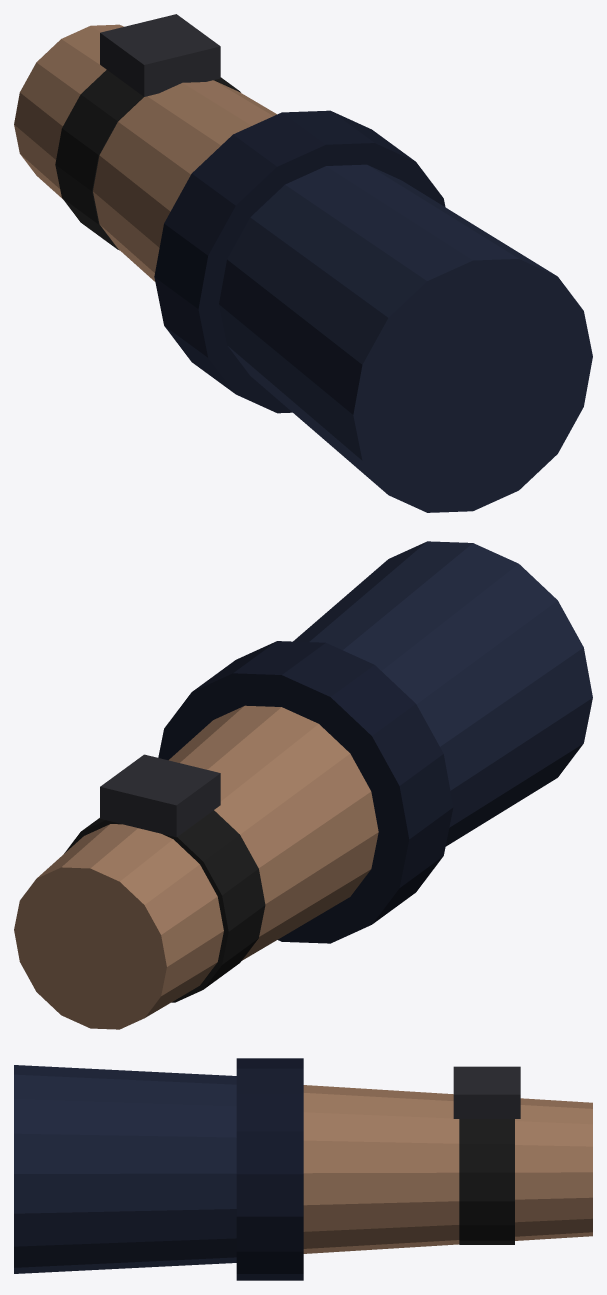
File: forearm_left.glb
3 views of the same model, one above another, from view 1: azimuth 30°, elevation 25°; view 2: azimuth 150°, elevation 25°; view 3: azimuth 270°, elevation 25° (orthographic). The views are drawn at different scales.
Parts seen in each view (by area): view 1: forearm_left; view 2: forearm_left; view 3: forearm_left.
Boxes of the visible parts, left/top/right/bottom form: forearm_left: left=14, top=14, right=592, bottom=512; forearm_left: left=14, top=541, right=592, bottom=1029; forearm_left: left=14, top=1058, right=592, bottom=1280.
Size of the model in its own units: 0.1 by 0.1 by 0.26.
